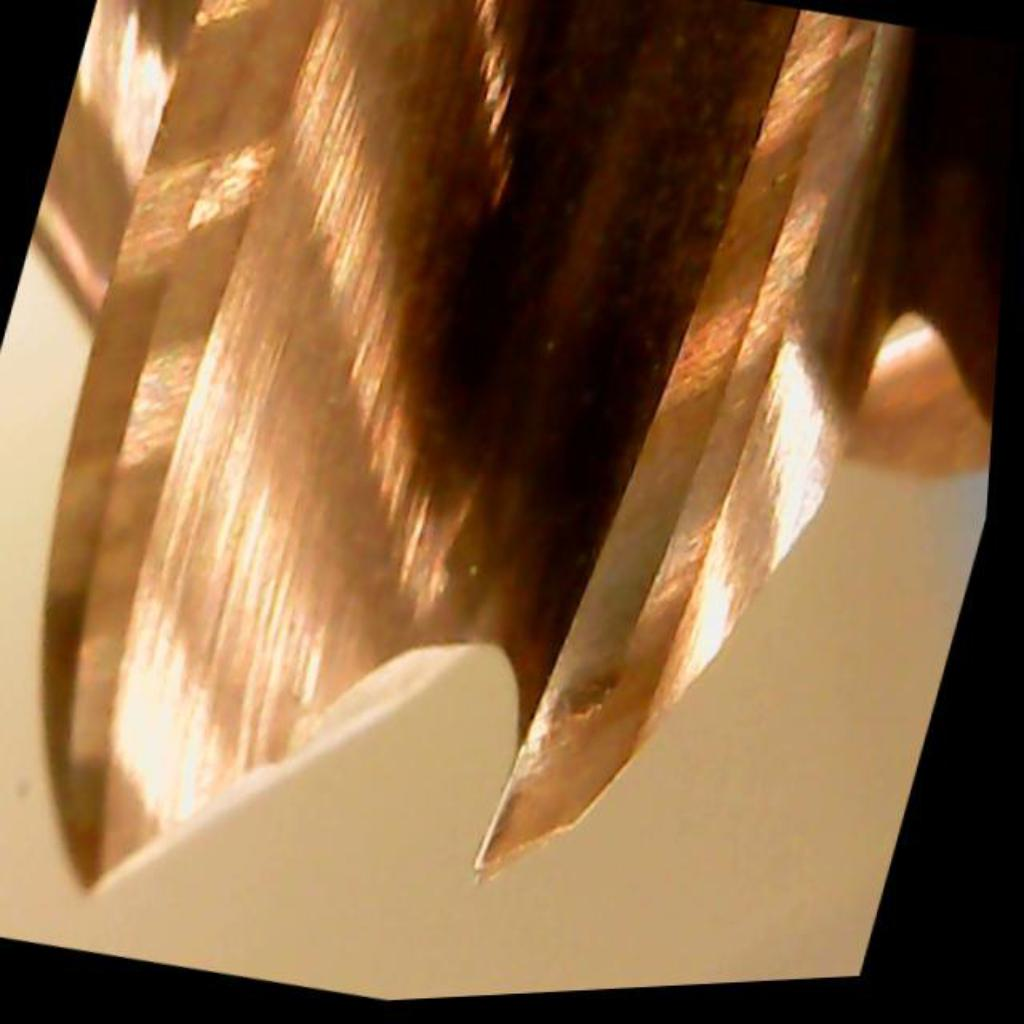Tool-wear-class-0: (450, 387, 784, 923)
